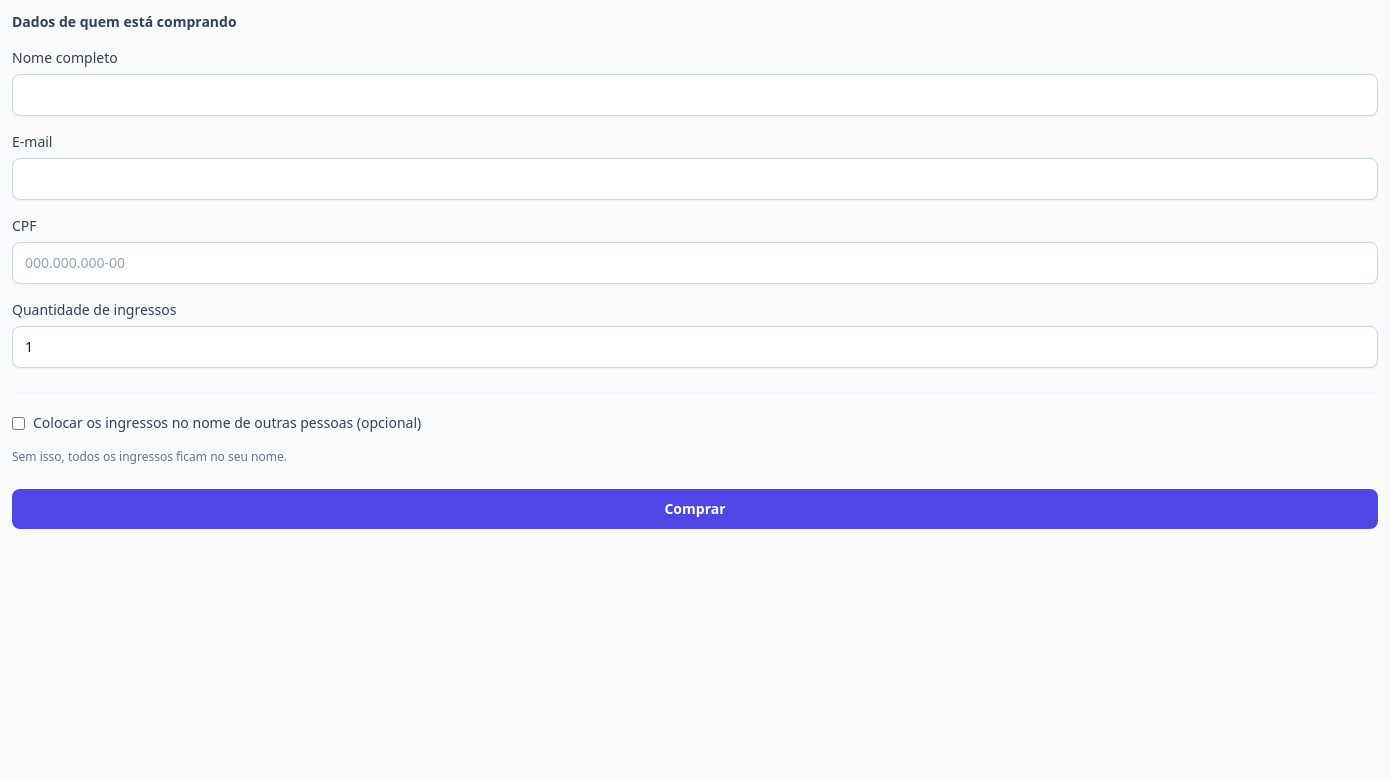
Scenario: CheckoutForm (público) › CPF inválido bloqueia o envio
Type "Fulano de Tal" into the field labelled "Nome completo" at (695, 95), box [12,74,1378,116]
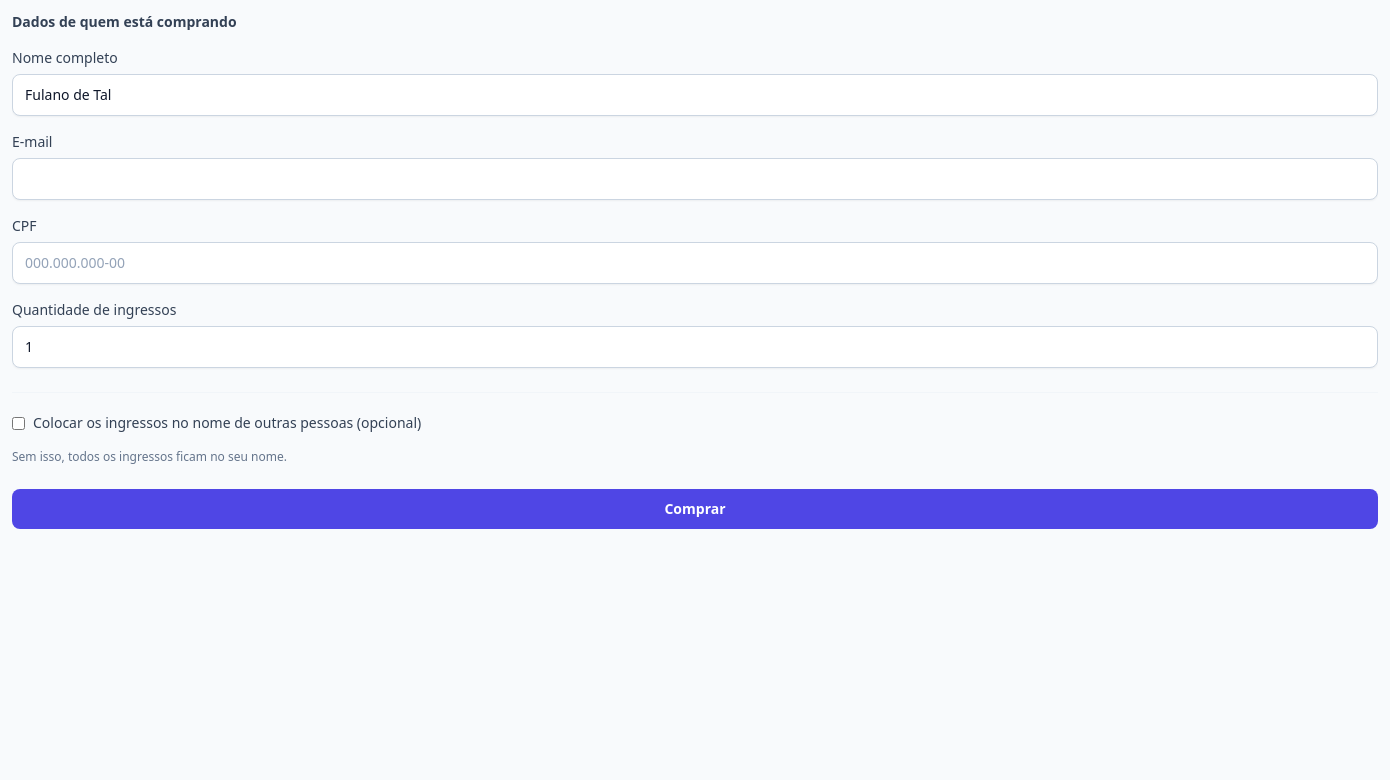
Type "fulano@example.com" into the field labelled "E-mail" at (695, 179), box [12,158,1378,200]
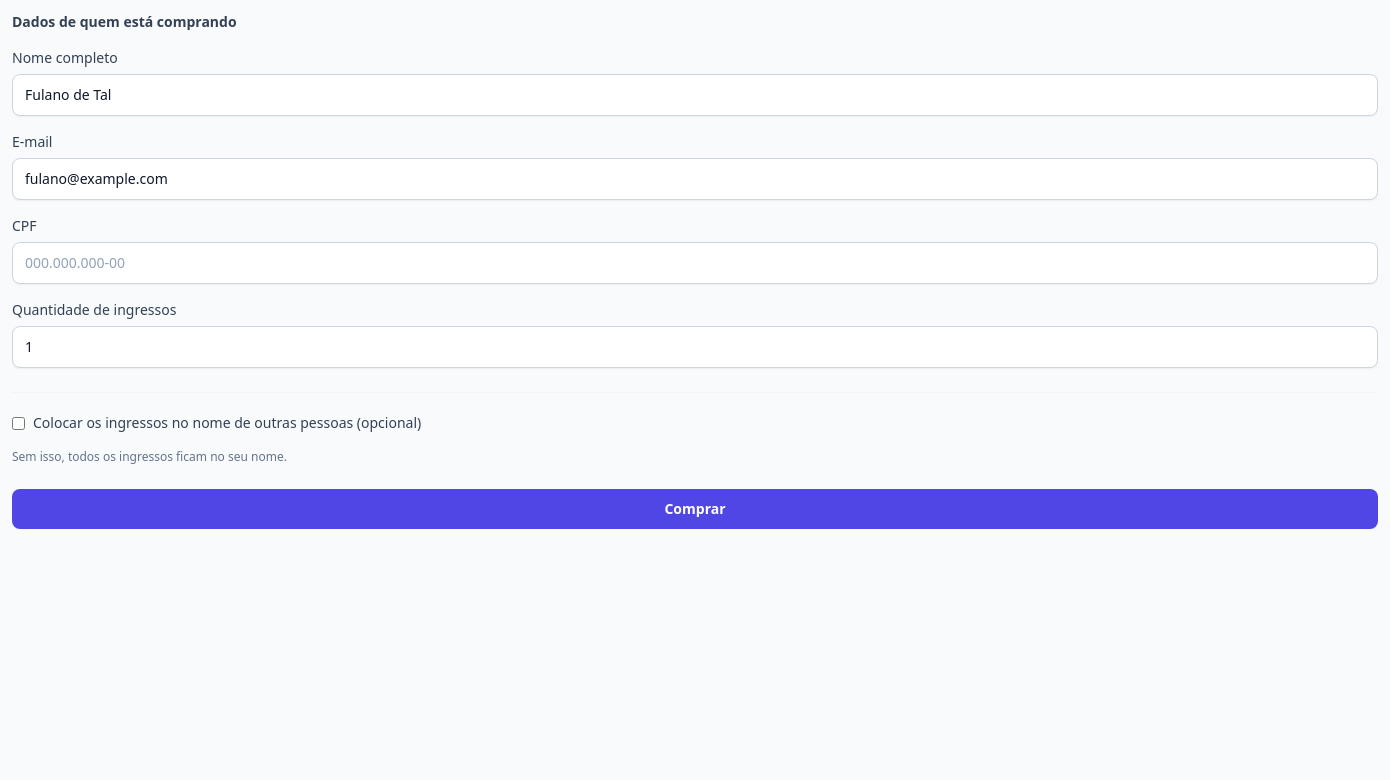
Type "52998224725" into the field labelled "CPF" at (695, 263), box [12,242,1378,284]
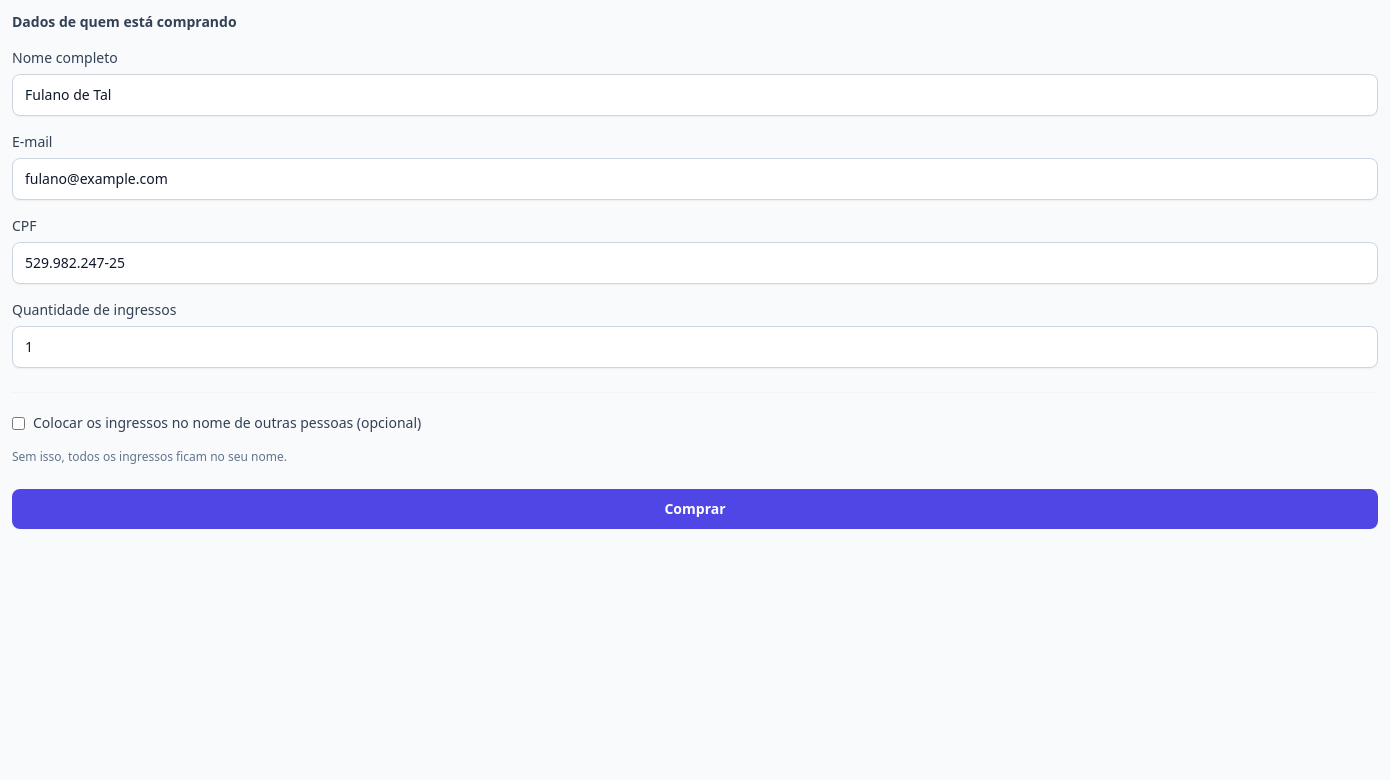
Replace the text in the field labelled "CPF" with "11111111111" at (695, 263), box [12,242,1378,284]
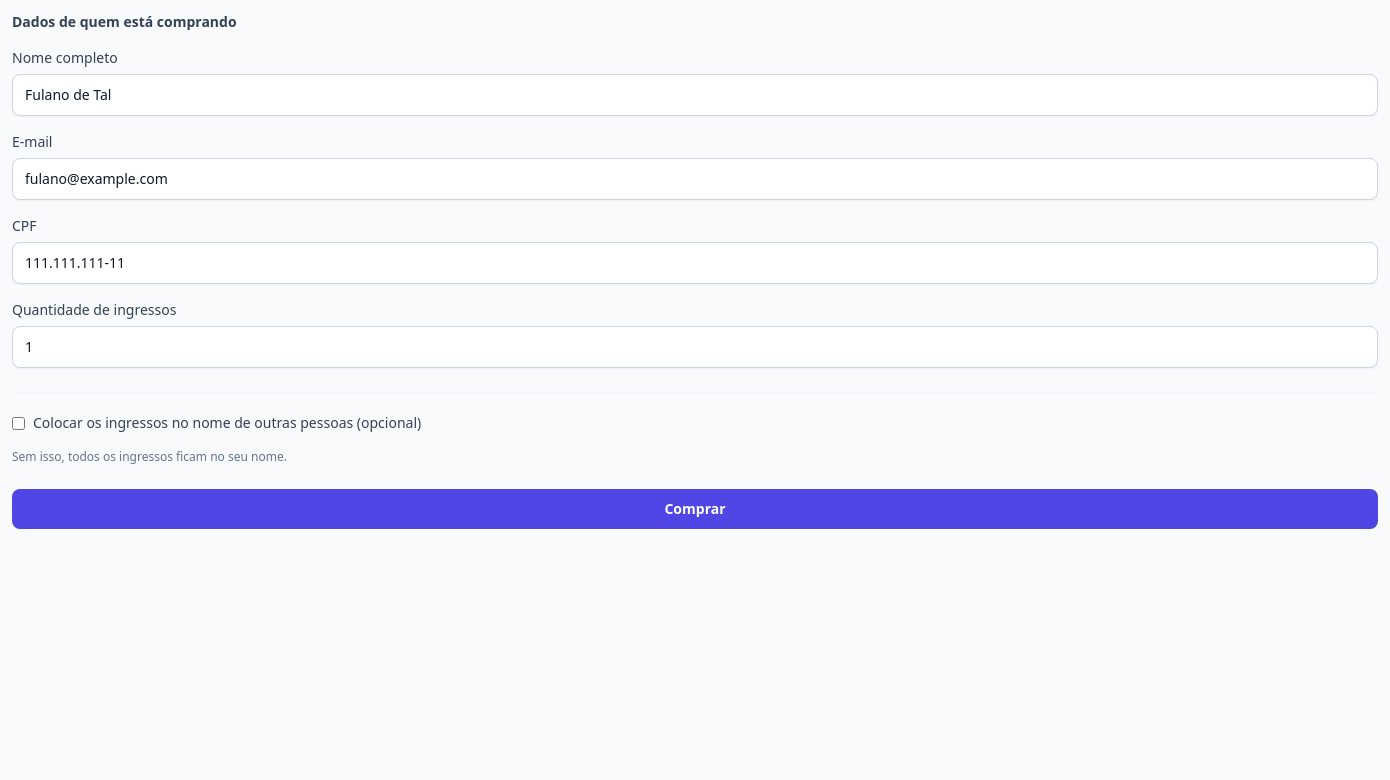
Click the button "Comprar" at (695, 509), box [12,489,1378,529]
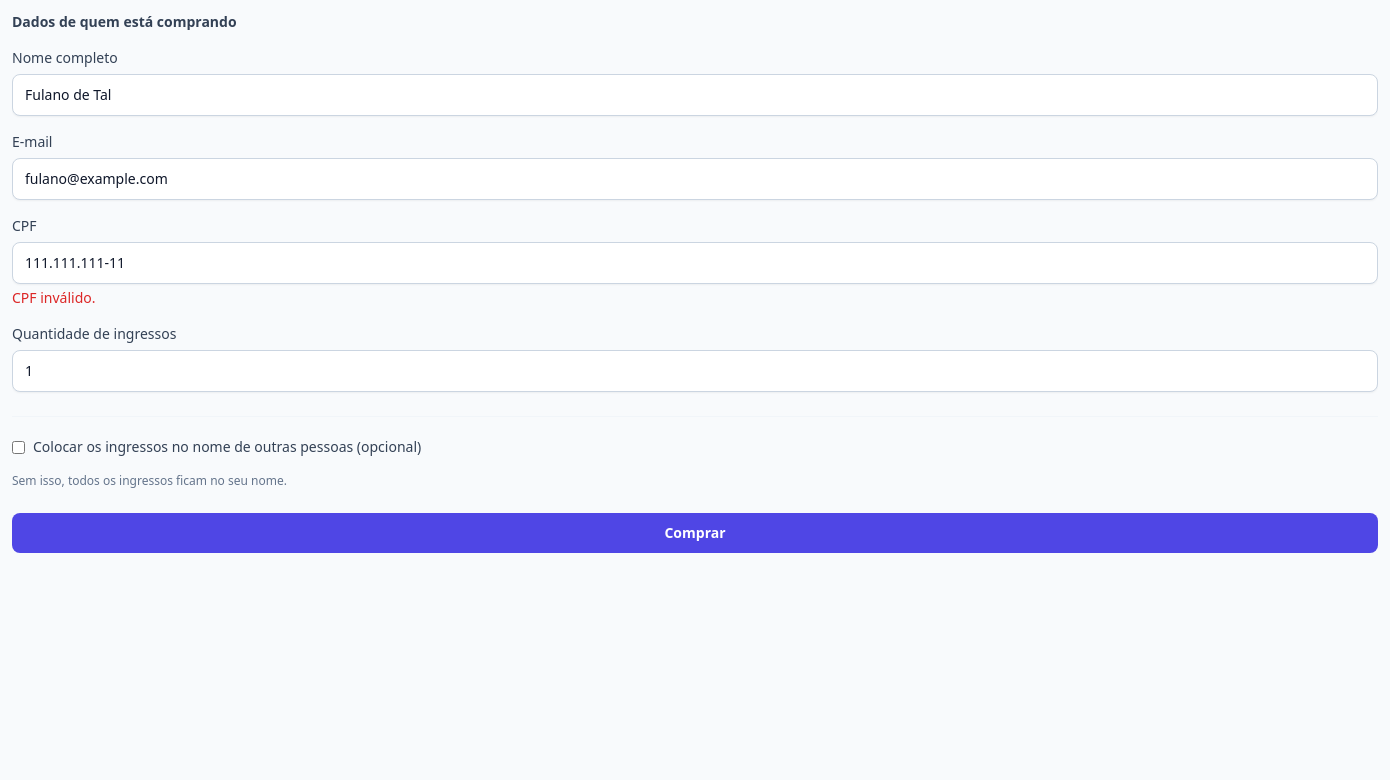
Now the text "CPF inválido." is shown, box [12,288,96,307]
